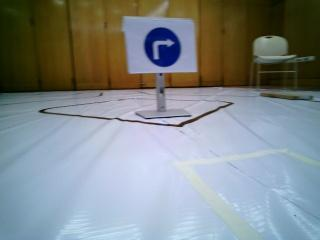right: (136, 23, 191, 72)
